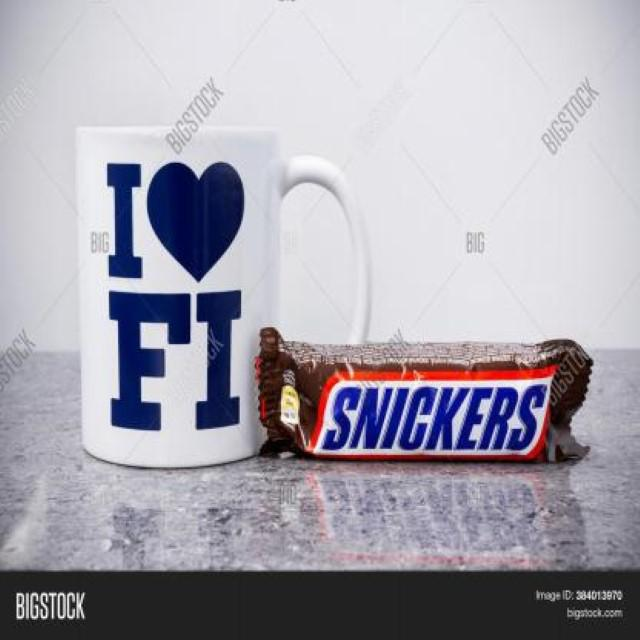snickers_chocolate: (272, 312, 585, 493)
